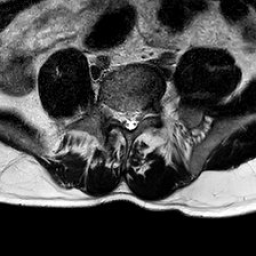CCS_normal: (126, 102, 134, 137)
LFS_normal: (142, 100, 152, 124)
LLS_normal: (134, 102, 142, 131)
RFS_normal: (109, 99, 118, 128)
RLS_normal: (118, 101, 126, 132)
